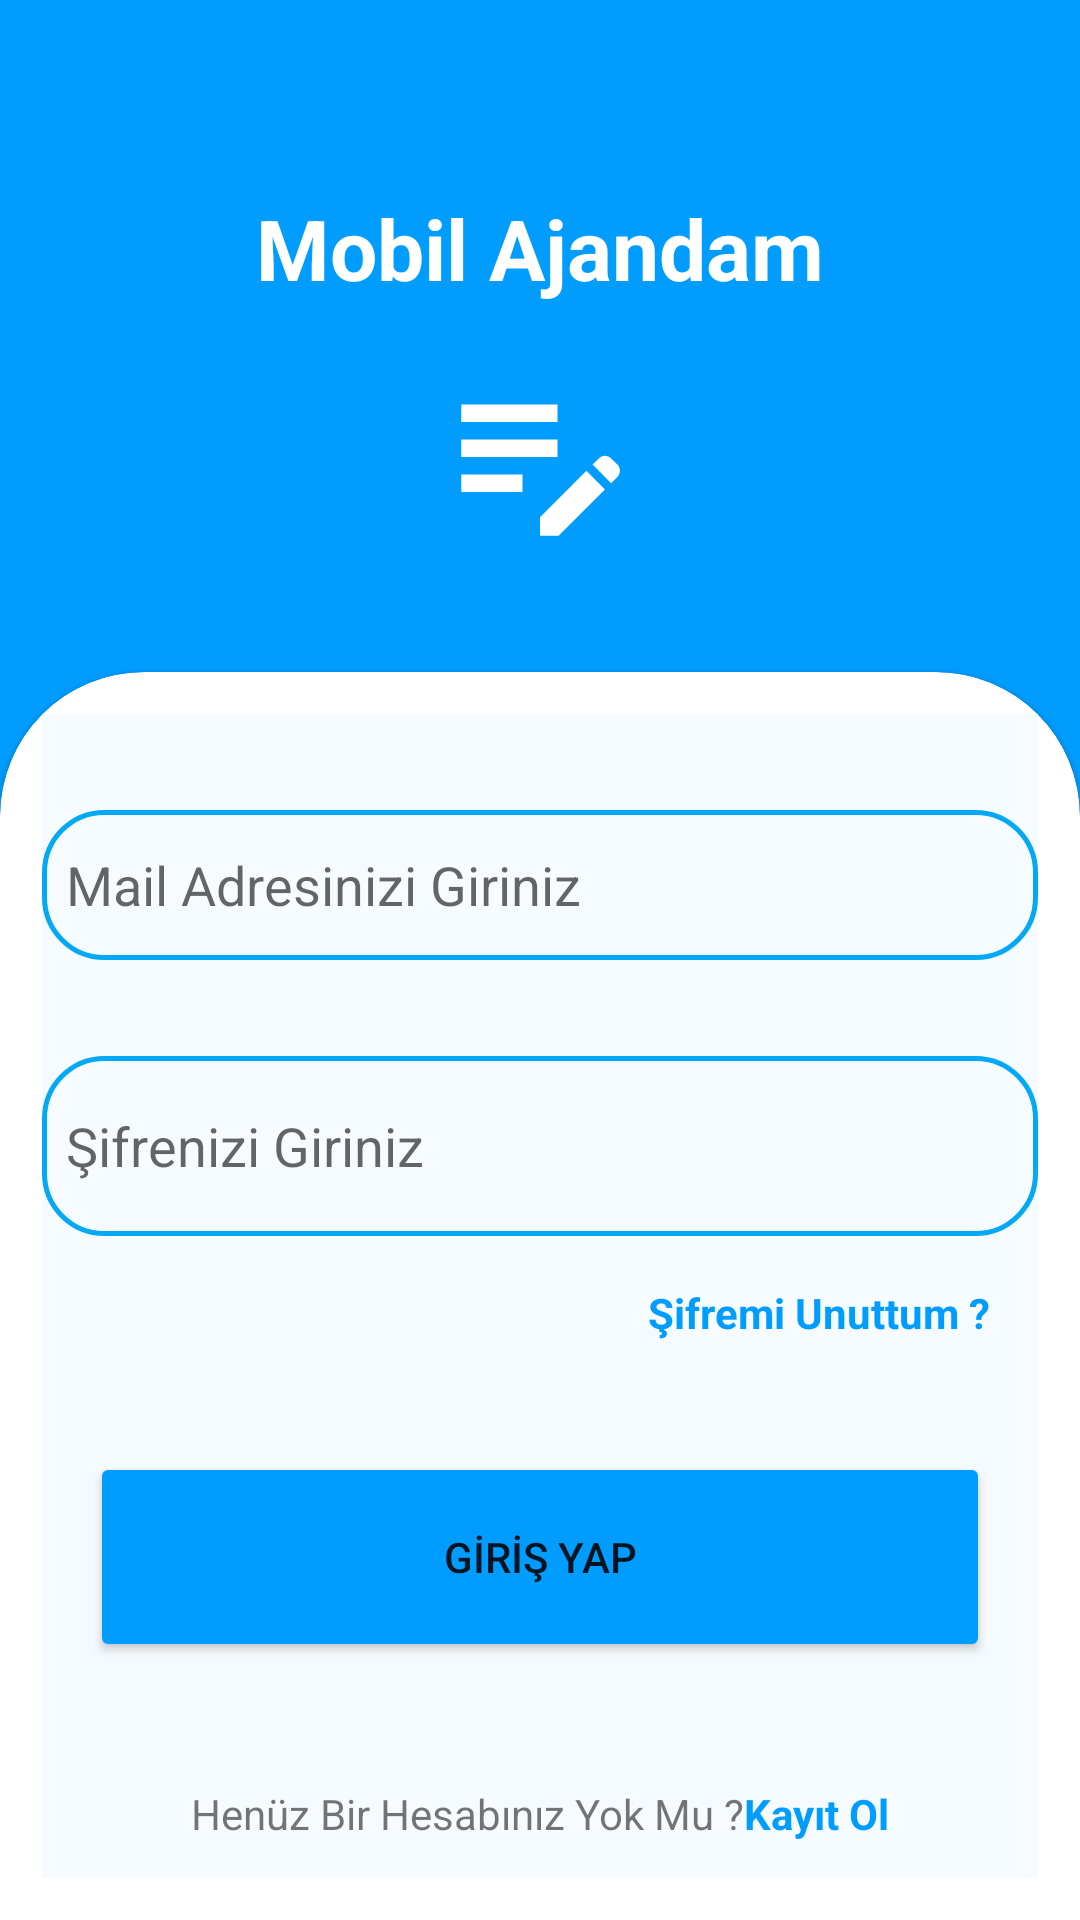

Where to tap for icons on this 1080×1920 app screen, as point (x, y):
notes: point (540, 470)
